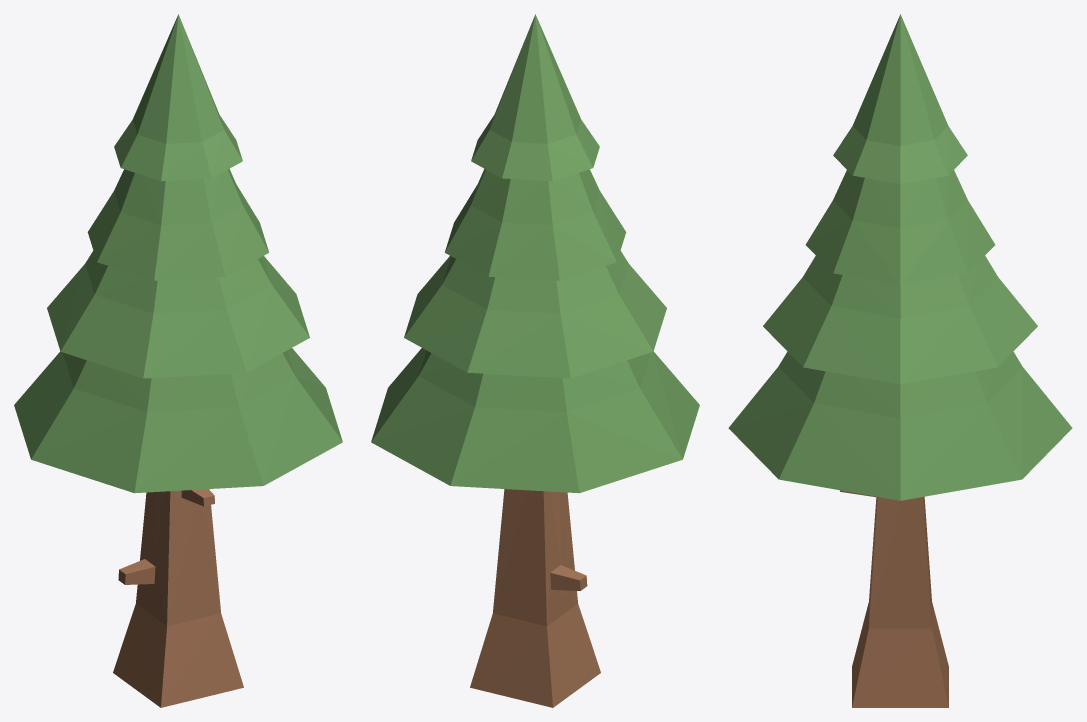
The model's file is forest-pine-2.glb.
3 views of the same model, side by side, from view 1: azimuth 30°, elevation 25°; view 2: azimuth 150°, elevation 25°; view 3: azimuth 270°, elevation 25° (orthographic).
Visible parts, largest first — view 1: forest-pine-2; view 2: forest-pine-2; view 3: forest-pine-2.
Boxes of the visible parts, box(x1,y1,x2,y2) form: forest-pine-2: box(14, 14, 342, 707); forest-pine-2: box(371, 14, 699, 707); forest-pine-2: box(728, 14, 1072, 707).
Size of the model in its own units: 0.9002 by 1.94 by 0.9002.
